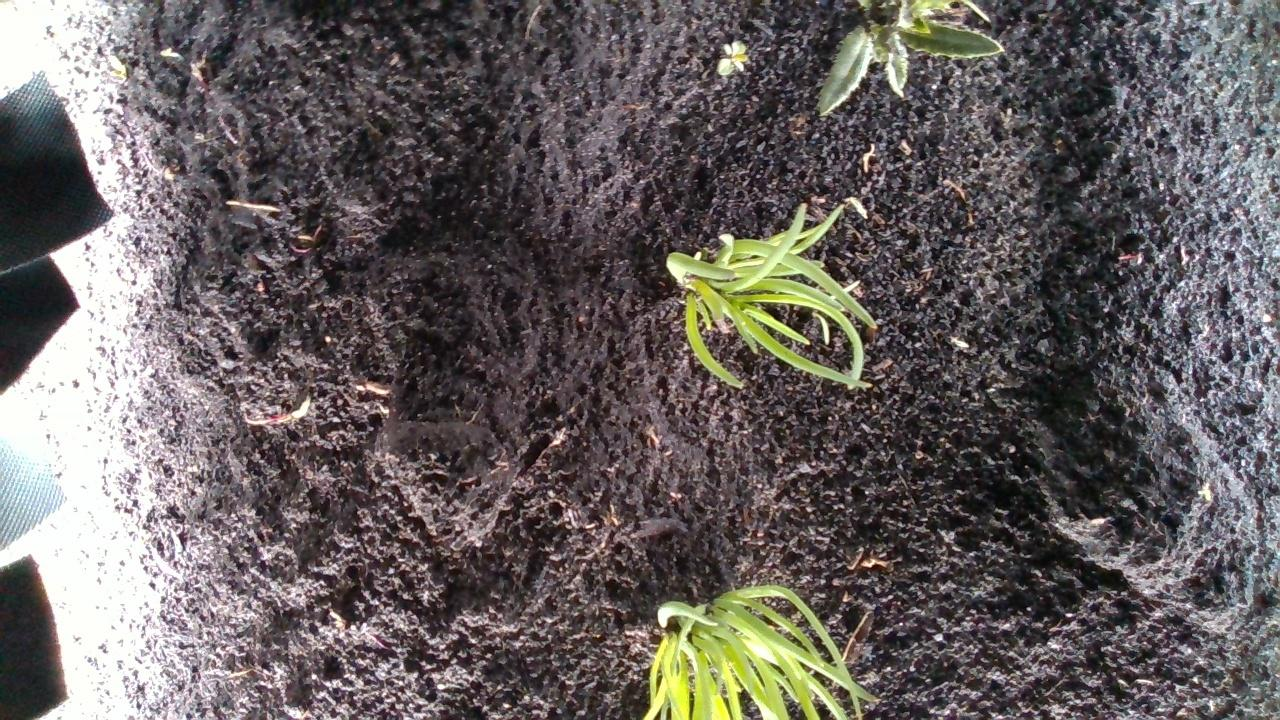weed: (711, 35, 744, 78)
